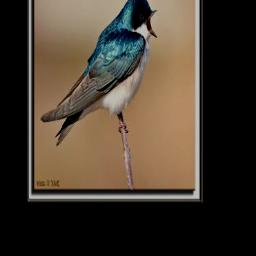Swallow: (39, 0, 160, 149)
